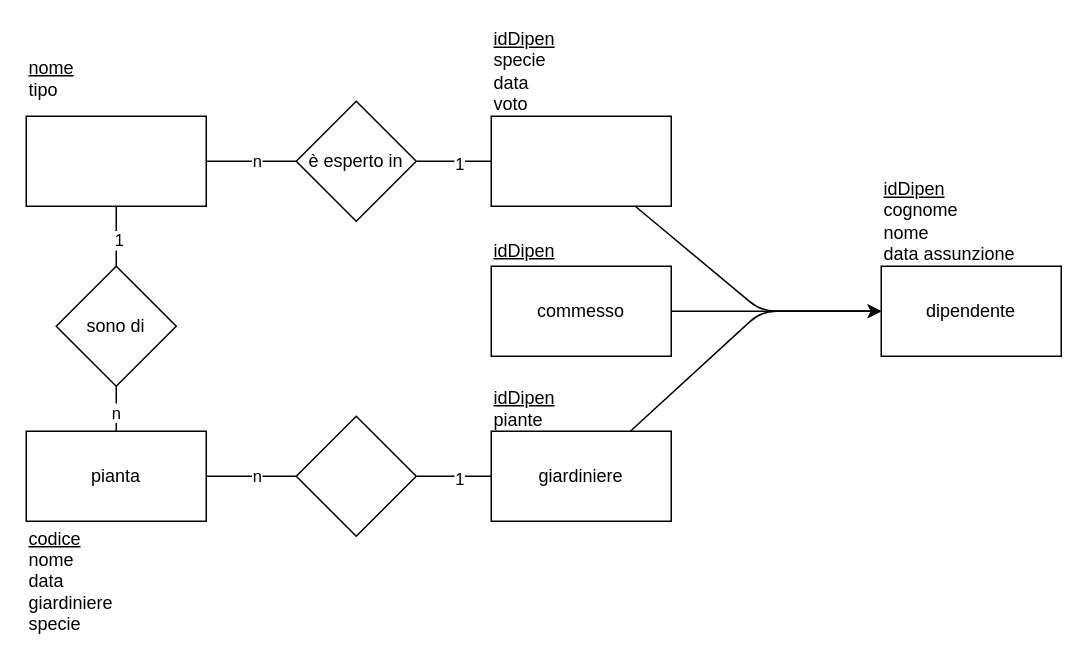
Image size: 1088x666. Some labels were removed from this diagram. The centre of each missing label's shape, as x and y in pixels:
agronomo: (x=580, y=160)
gestisce: (x=355, y=475)
specie: (x=115, y=160)
